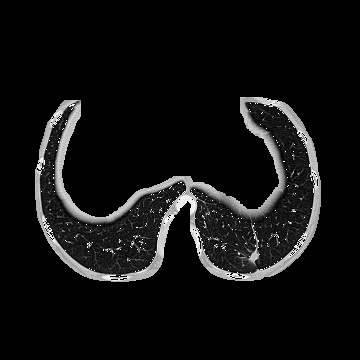PN: (246, 248, 262, 264)
